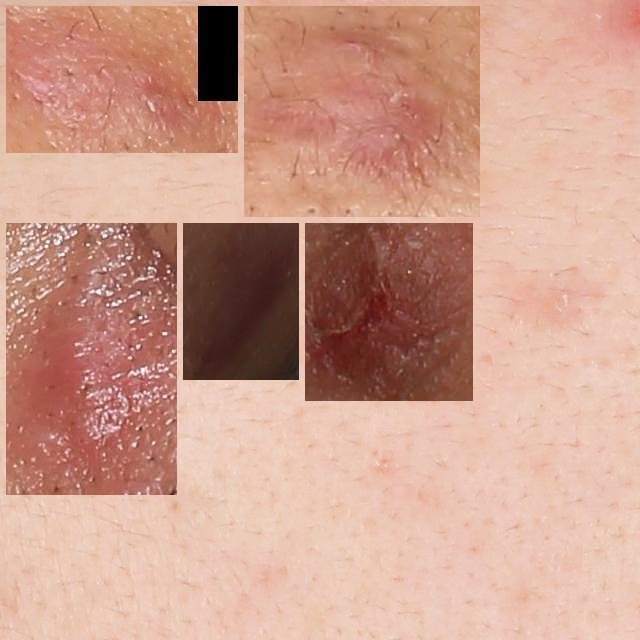nodule: (252, 14, 472, 209), (14, 231, 169, 487), (14, 14, 230, 145), (313, 231, 465, 393), (191, 231, 291, 372)
